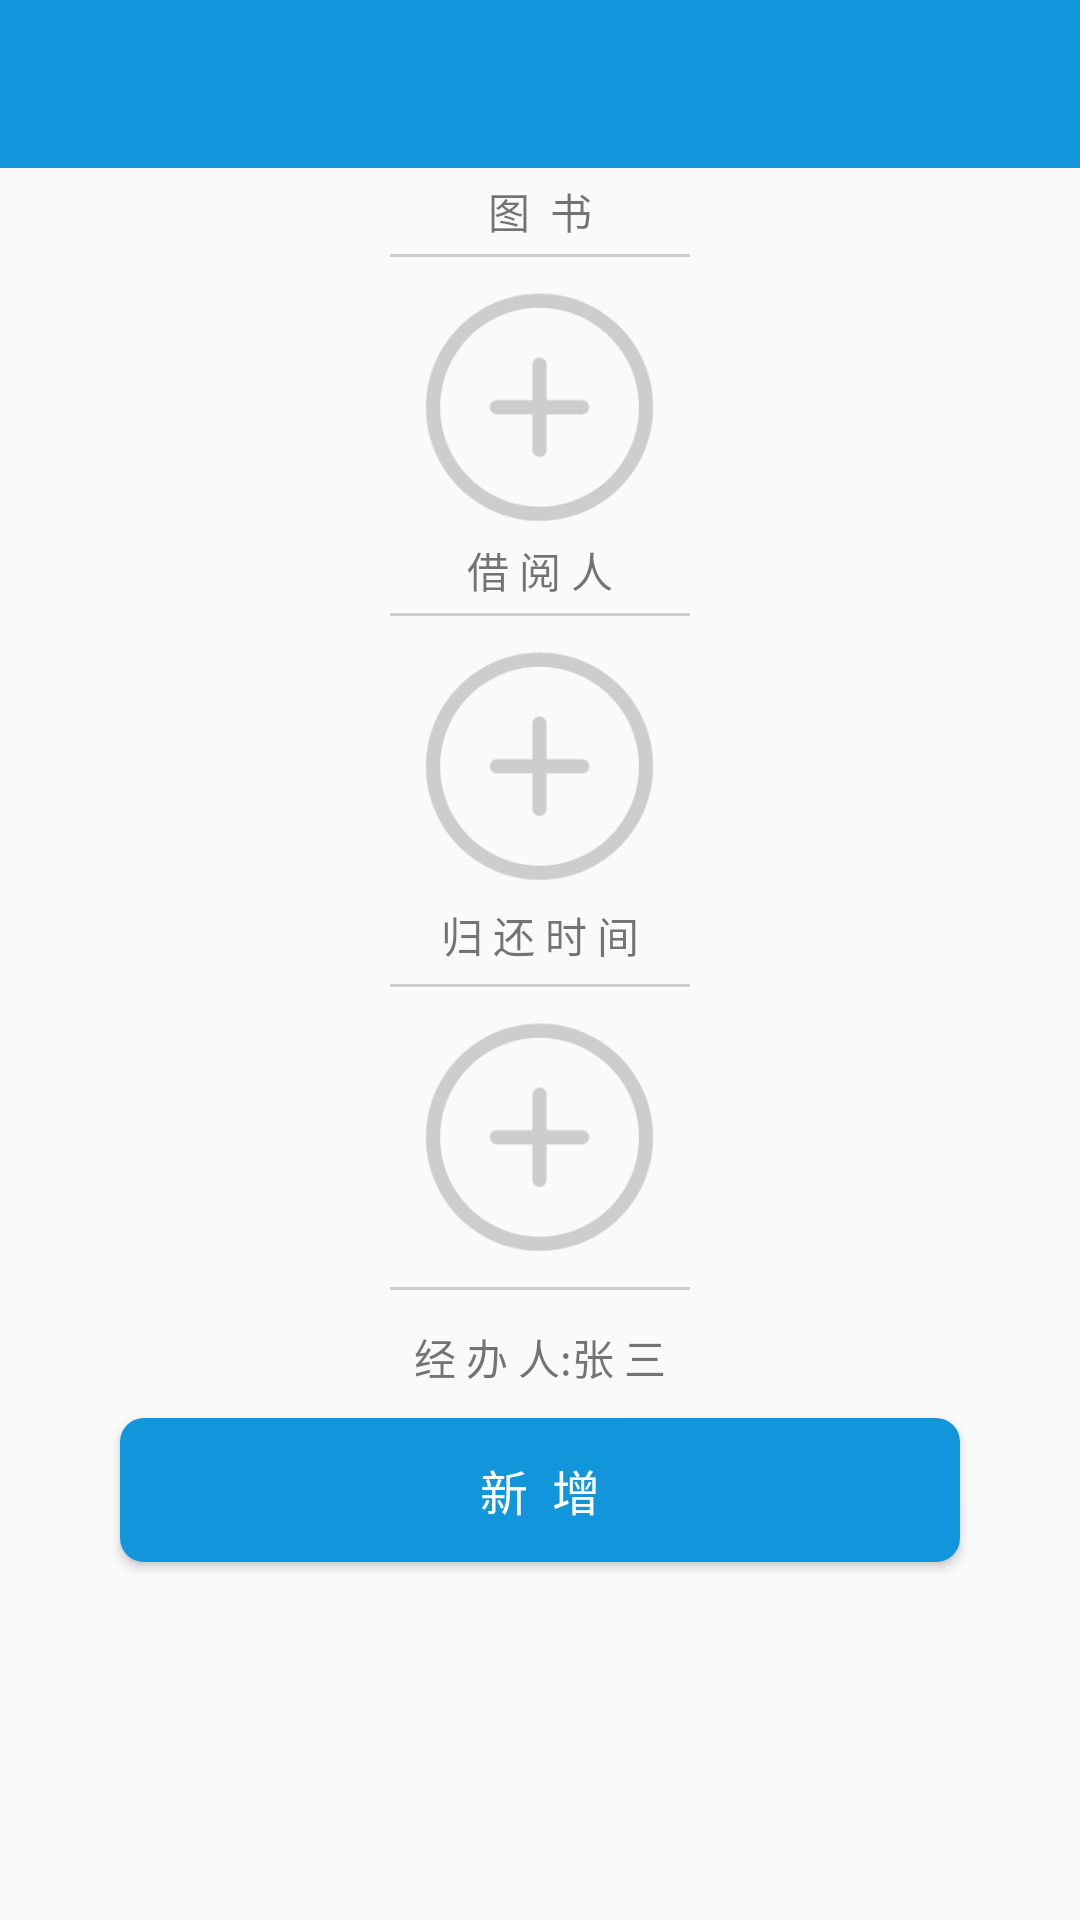

Point at icon controls on the screen. Image size 1080w x 1920h, points as [x,y].
add: [539,407], [539,766], [539,1137]
